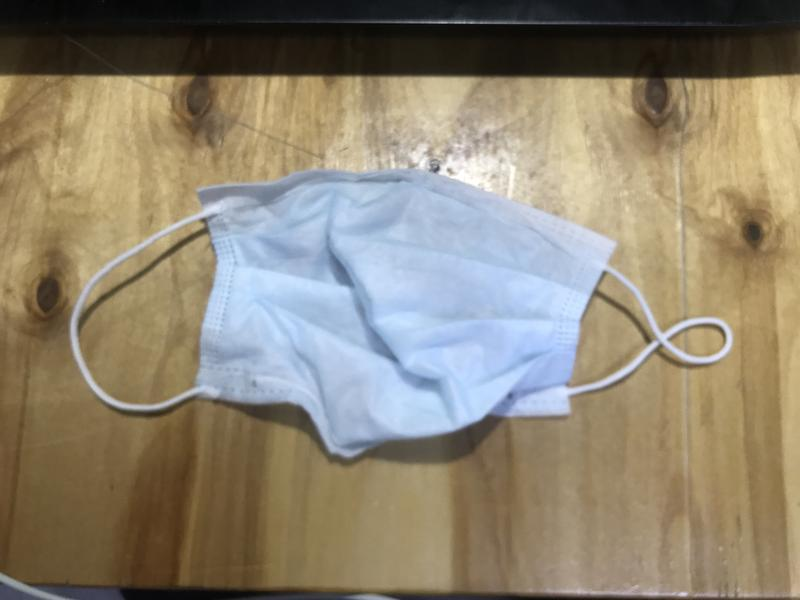medical_mask: (69, 172, 732, 458)
